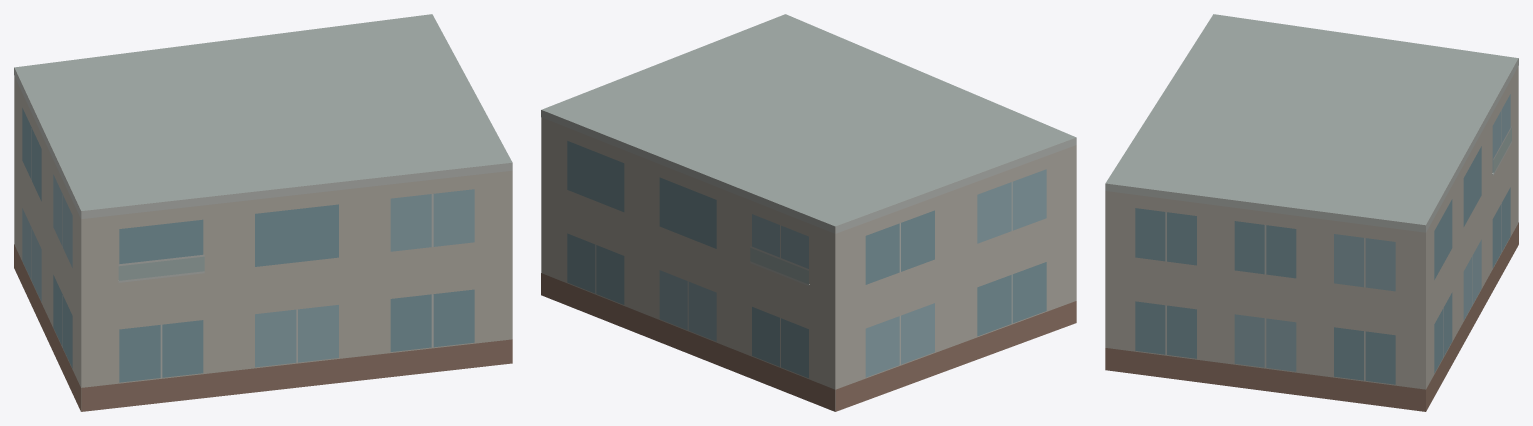
Rendered from survey-upis-32828127.glb.
3 renders of one model, left to right at view 1: azimuth 30°, elevation 25°; view 2: azimuth 150°, elevation 25°; view 3: azimuth 270°, elevation 25°, orthographic. The views are drawn at different scales.
Parts seen in each view (by area): view 1: survey-upis-32828127.tmp; view 2: survey-upis-32828127.tmp; view 3: survey-upis-32828127.tmp.
Part boxes in pixels (box(x1,y1,x2,y2)): survey-upis-32828127.tmp: box(14, 14, 512, 411); survey-upis-32828127.tmp: box(541, 14, 1076, 411); survey-upis-32828127.tmp: box(1105, 14, 1518, 411).
Size of the model in its own units: 14.82 by 6.1 by 12.25.
